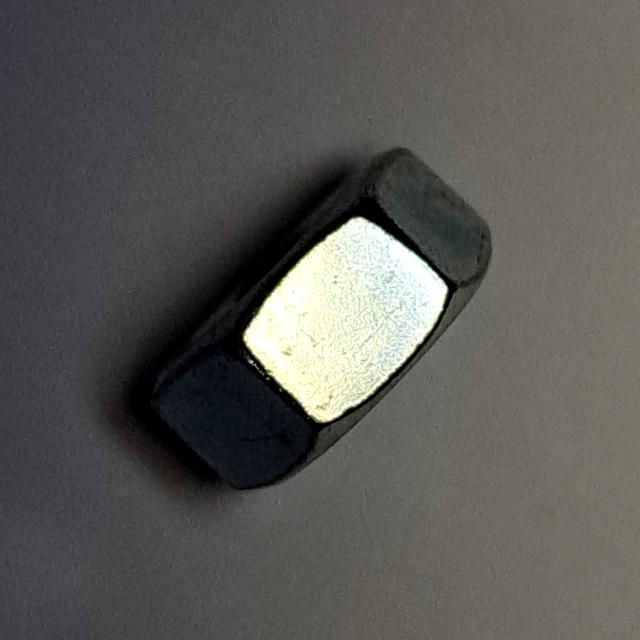Side_Excellent: (119, 130, 500, 505)
